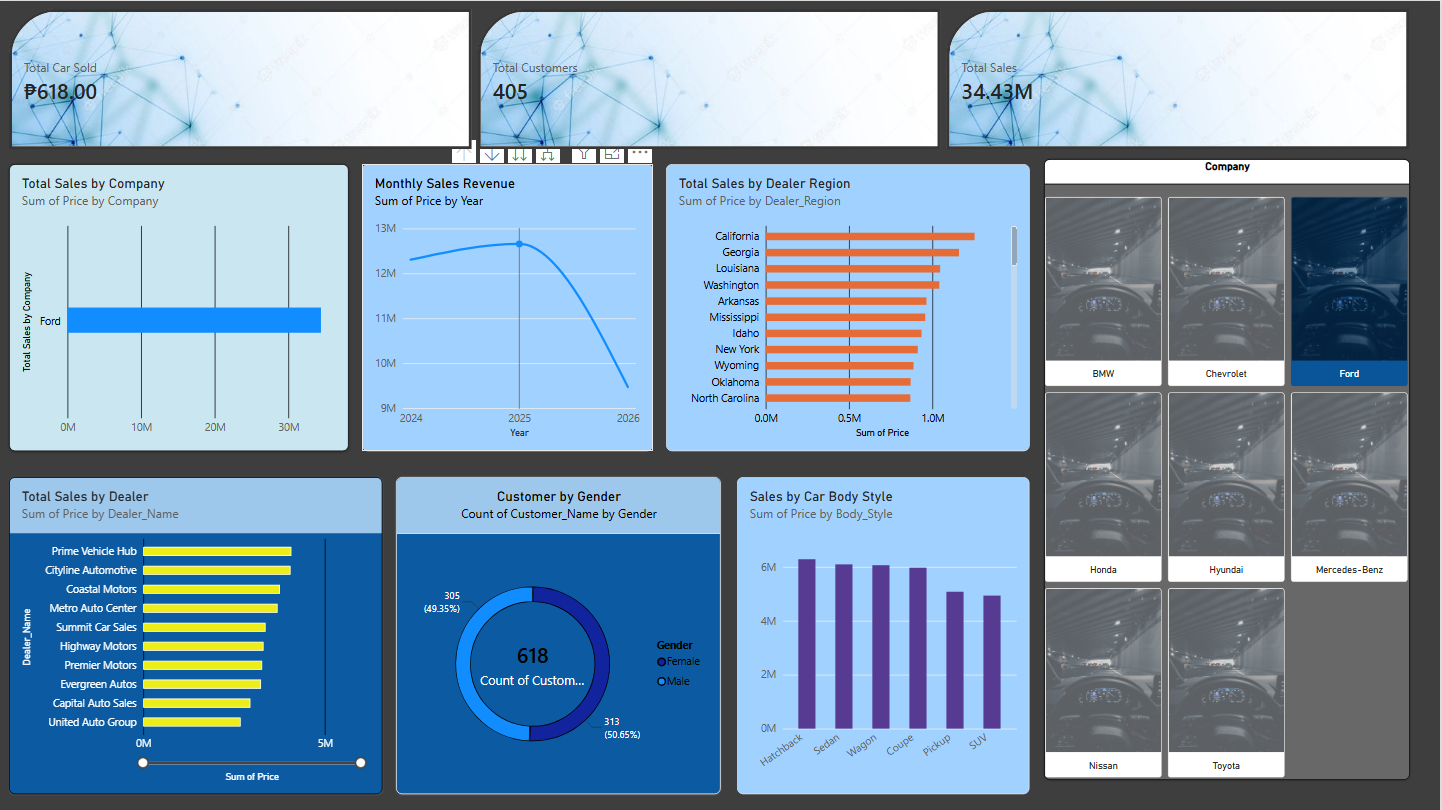

Layout of this report page (visuals, bound fields, positions):
{"tool":"powerbi","page":{"name":"Page 1","canvas":[1920,1080],"ordinal":0},"visuals":[{"type":"clusteredBarChart","title":"Total Sales by Company","fields":{"Category":["car_sales_powerbi_ready.Company"],"Y":["Sum(car_sales_powerbi_ready.Price)"]},"box":[12.5,210.6,635.5,382],"z":0},{"type":"lineChart","title":"Monthly Sales Revenue","fields":{"Category":["car_sales_powerbi_ready.Sale_Date.Variation.Date Hierarchy.Year","car_sales_powerbi_ready.Sale_Date.Variation.Date Hierarchy.Quarter","car_sales_powerbi_ready.Sale_Date.Variation.Date Hierarchy.Month","car_sales_powerbi_ready.Sale_Date.Variation.Date Hierarchy.Day","car_sales_powerbi_ready.Year_Month.Variation.Date Hierarchy.Year","car_sales_powerbi_ready.Year_Month.Variation.Date Hierarchy.Quarter","car_sales_powerbi_ready.Year_Month.Variation.Date Hierarchy.Month","car_sales_powerbi_ready.Year_Month.Variation.Date Hierarchy.Day"],"Y":["Sum(car_sales_powerbi_ready.Price)"]},"box":[678.3,210.6,574.8,382],"z":1000},{"type":"clusteredBarChart","title":"Total Sales by Dealer Region","fields":{"Category":["car_sales_powerbi_ready.Dealer_Region"],"Y":["Sum(car_sales_powerbi_ready.Price)"]},"box":[1294.2,210.6,598,382],"z":2000},{"type":"clusteredColumnChart","title":"Sales by Car Body Style","fields":{"Category":["car_sales_powerbi_ready.Body_Style"],"Y":["Sum(car_sales_powerbi_ready.Price)"]},"box":[1294.2,624.8,598,424.9],"z":3000},{"type":"cardVisual","fields":{"Data":["car_sales_powerbi_ready.Total Car Sold","car_sales_powerbi_ready.Total Customers","car_sales_powerbi_ready.Total Sales"]},"box":[12.5,8.9,762.2,187.4],"z":4000},{"type":"donutChart","title":"Customer by Gender","fields":{"Category":["car_sales_powerbi_ready.Gender"],"Y":["CountNonNull(car_sales_powerbi_ready.Customer_Name)"]},"box":[712.3,624.8,540.9,439.1],"z":5000},{"type":"clusteredBarChart","title":"Total Sales by Dealer","fields":{"Category":["car_sales_powerbi_ready.Dealer_Name"],"Y":["Sum(car_sales_powerbi_ready.Price)"]},"box":[12.5,642.6,665.9,421.3],"z":6000},{"type":"advancedSlicerVisual","fields":{"Values":["car_sales_powerbi_ready.Company"]},"box":[774.7,28.6,710.5,512.3],"z":7000}]}

Visuals, with their boxes on the page's 1920x1080 design canvas (x1, y1, x2, y2). These are canvas units, not pixel positions in the 1442x810 screenshot, which may show the page scaled, cropped or inside an application window:
"Total Sales by Company" clusteredBarChart: Rect(12, 211, 648, 593)
"Monthly Sales Revenue" lineChart: Rect(678, 211, 1253, 593)
"Total Sales by Dealer Region" clusteredBarChart: Rect(1294, 211, 1892, 593)
"Sales by Car Body Style" clusteredColumnChart: Rect(1294, 625, 1892, 1050)
cardVisual - car_sales_powerbi_ready.Total Car Sold x car_sales_powerbi_ready.Total Customers: Rect(12, 9, 775, 196)
"Customer by Gender" donutChart: Rect(712, 625, 1253, 1064)
"Total Sales by Dealer" clusteredBarChart: Rect(12, 643, 678, 1064)
advancedSlicerVisual - car_sales_powerbi_ready.Company: Rect(775, 29, 1485, 541)
